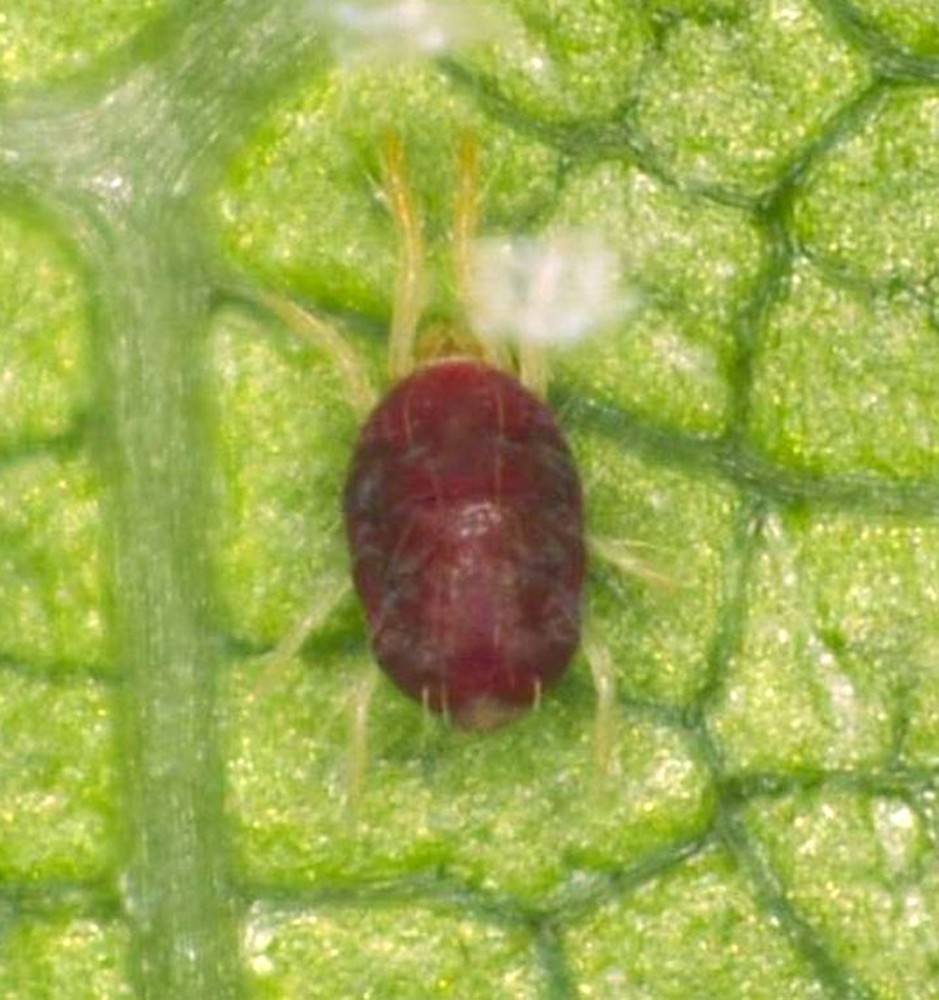Aracnido Rojo: (219, 146, 718, 815)
